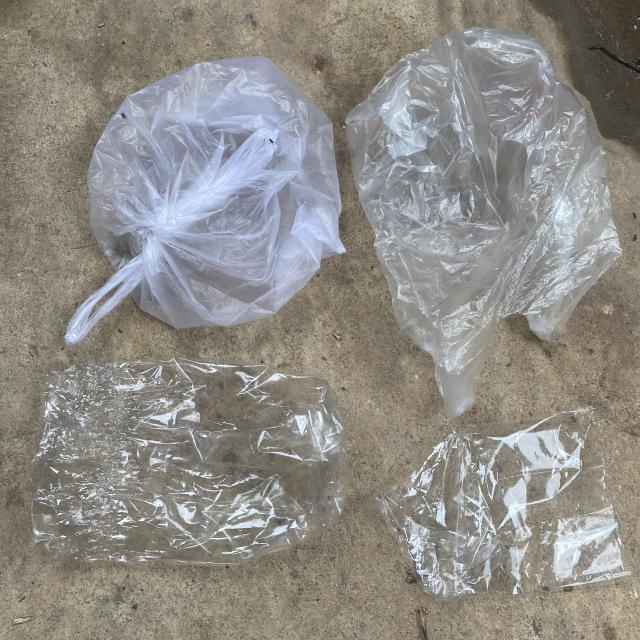Single-layer Plastic: (345, 28, 621, 418), (65, 56, 345, 345), (30, 359, 349, 565), (376, 408, 630, 600)
